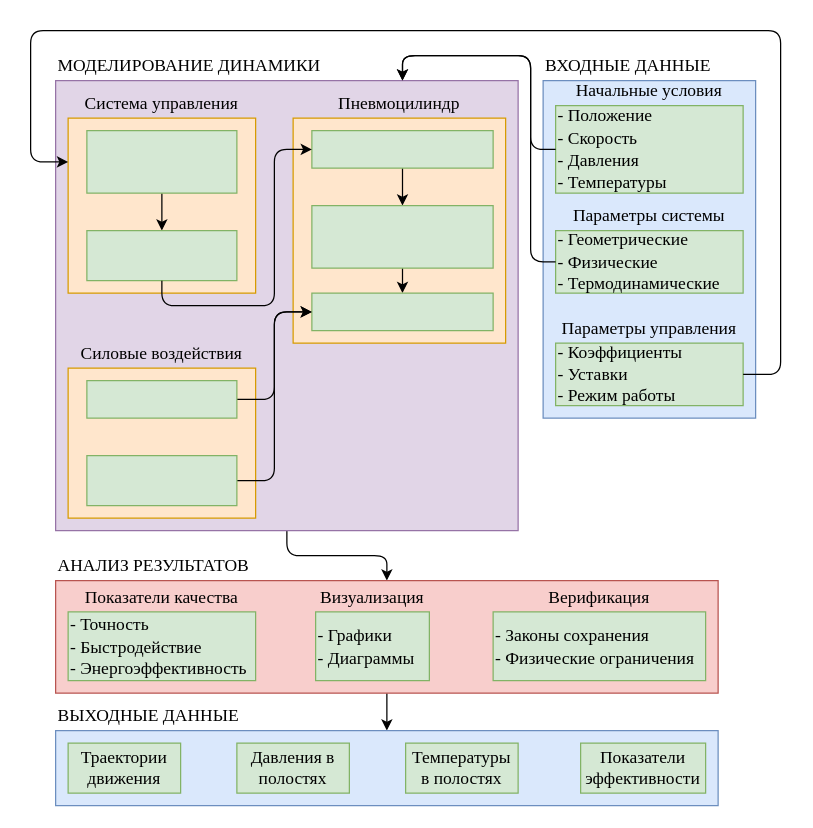
This 813x828 diagram has some shape labels left out. Each missing label, with the centre of its shape:
"Конкретный алгоритм" goes at pixel 161 161.
"Массовый расход" goes at pixel 402 148.
"Сила реакции упоров" goes at pixel 161 480.
"Сила трения" goes at pixel 161 398.
"Состояния распределителей" goes at pixel 161 255.
"Термодинамические процессы" goes at pixel 402 236.
"Уравнение движения" goes at pixel 402 311.
